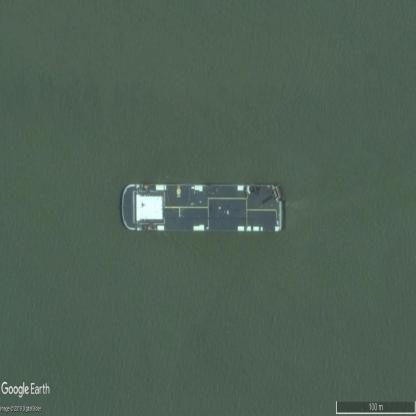ship: (122, 180, 284, 233)
